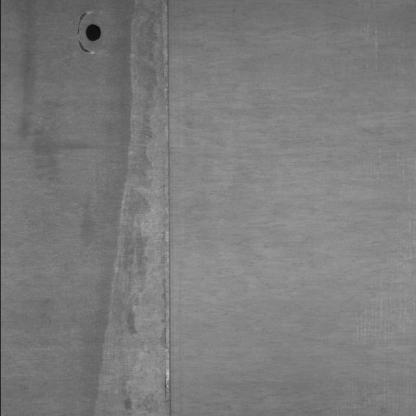punching_hole: (80, 20, 107, 42)
welding_line: (151, 0, 182, 413)
